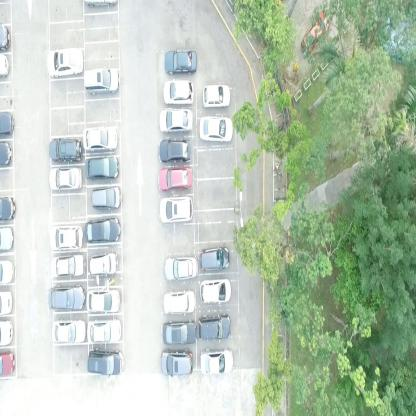car: (301, 6, 331, 52), (46, 48, 82, 80), (198, 114, 234, 144), (47, 281, 85, 309), (157, 164, 193, 193), (84, 216, 122, 243), (53, 316, 86, 347), (159, 194, 193, 224), (49, 223, 84, 252), (200, 347, 234, 376), (84, 67, 118, 96), (82, 125, 118, 152), (88, 348, 125, 374), (199, 310, 231, 339), (161, 319, 198, 344), (85, 153, 118, 181), (160, 348, 194, 375), (87, 317, 121, 344), (164, 49, 197, 76), (158, 137, 192, 163), (163, 254, 198, 279), (158, 107, 193, 132), (86, 288, 121, 313), (48, 165, 83, 190), (200, 244, 230, 273), (200, 276, 232, 303), (53, 251, 86, 276), (48, 136, 82, 160), (92, 183, 121, 211), (89, 250, 118, 278), (162, 80, 194, 105), (165, 288, 194, 315), (203, 82, 231, 106), (0, 350, 17, 378), (0, 256, 15, 287), (0, 194, 16, 220), (0, 289, 15, 315), (0, 317, 13, 347), (0, 142, 13, 169), (0, 110, 14, 135), (0, 226, 13, 250), (0, 23, 11, 51), (0, 51, 10, 80)
